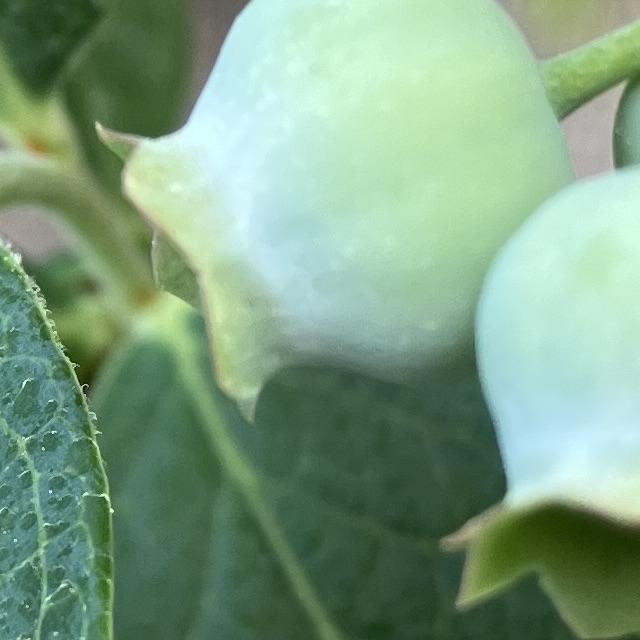Blueberries: (106, 0, 570, 416), (438, 156, 640, 640)
